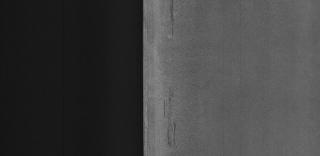silk spot: (184, 14, 206, 130)
water spot: (160, 88, 180, 148), (164, 1, 178, 39)
